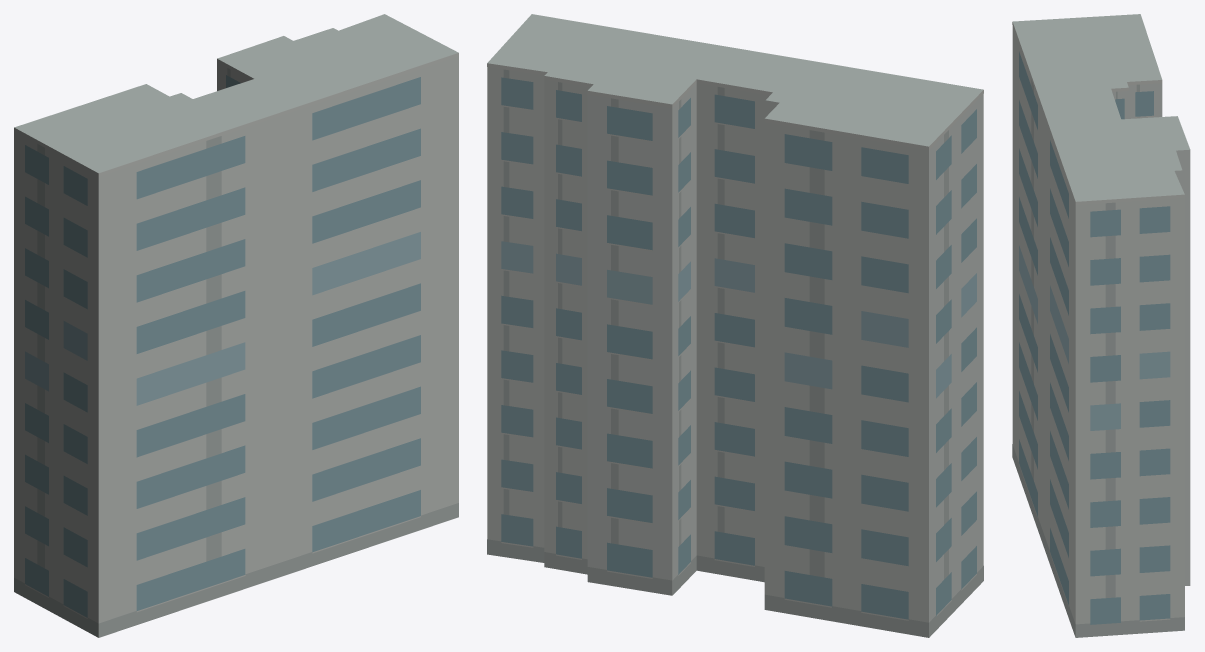
The model's file is survey-upis-32736492.glb.
The picture shows the model from 3 angles, left to right: view 1: azimuth 30°, elevation 25°; view 2: azimuth 150°, elevation 25°; view 3: azimuth 270°, elevation 25°; orthographic projection. The views are drawn at different scales.
Parts seen in each view (by area): view 1: survey-upis-32736492.tmp; view 2: survey-upis-32736492.tmp; view 3: survey-upis-32736492.tmp.
Part boxes in pixels (x1,y1,x2,y2): survey-upis-32736492.tmp: [14, 14, 458, 637]; survey-upis-32736492.tmp: [487, 14, 983, 637]; survey-upis-32736492.tmp: [1012, 14, 1190, 637].
Bounding box in the file's own units: 29.02 × 31.4 × 11.62.
